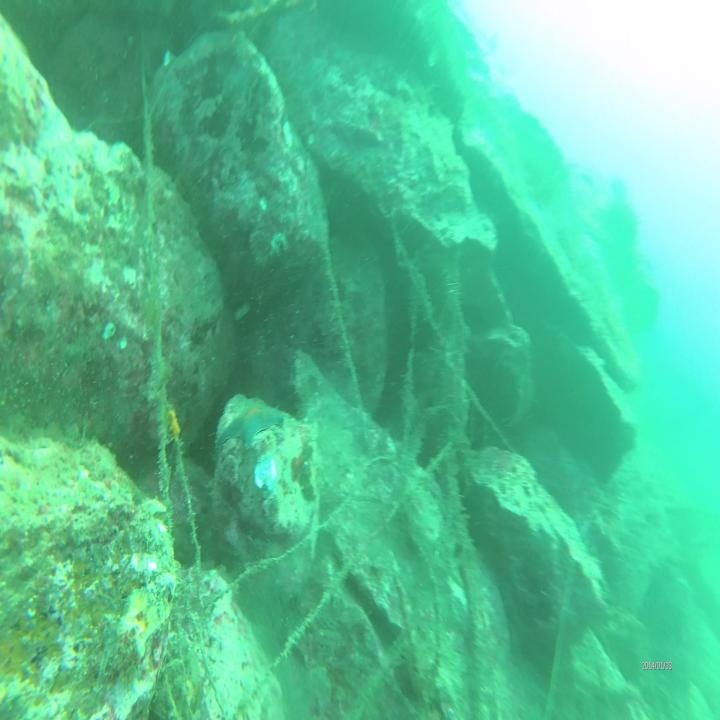starfish: (113, 588, 174, 654), (218, 394, 287, 452)
